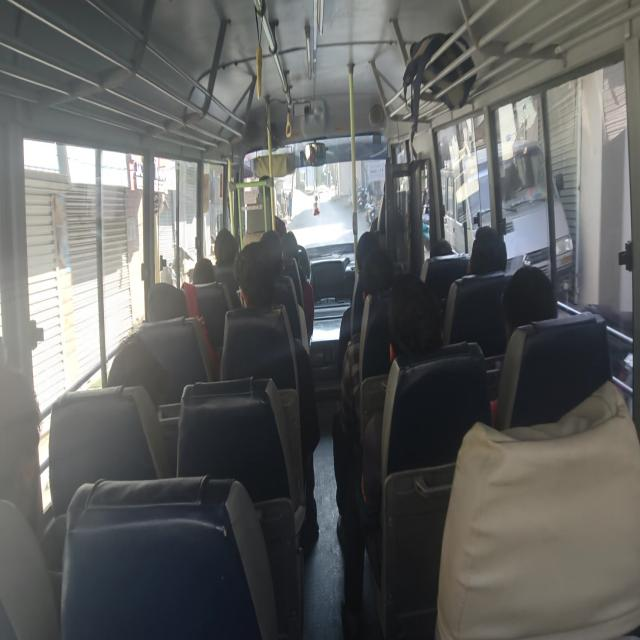person: (220, 241, 320, 547), (361, 273, 444, 512), (0, 365, 62, 638), (487, 263, 558, 423), (0, 365, 44, 536), (338, 231, 380, 368), (500, 264, 558, 346), (467, 225, 508, 275), (213, 228, 238, 268), (192, 257, 215, 284)
